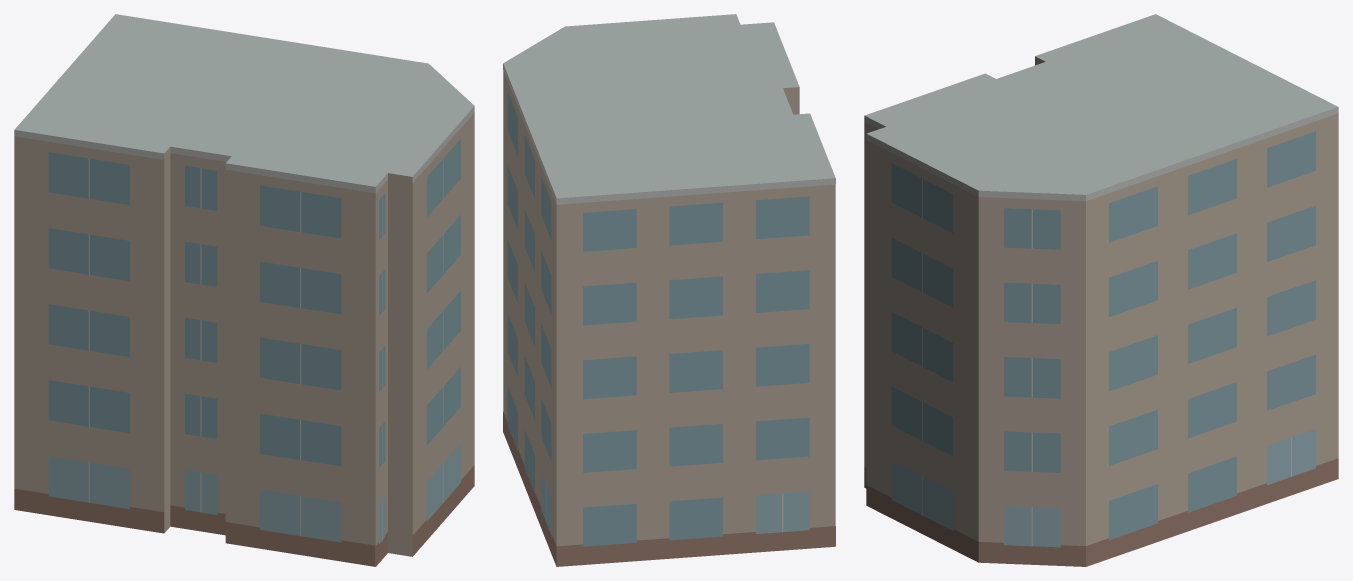
Rendered from survey-upis-32745446.glb.
3 renders of one model, left to right at view 1: azimuth 30°, elevation 25°; view 2: azimuth 150°, elevation 25°; view 3: azimuth 270°, elevation 25°, orthographic. The views are drawn at different scales.
Visible parts, largest first — view 1: survey-upis-32745446.tmp; view 2: survey-upis-32745446.tmp; view 3: survey-upis-32745446.tmp.
Part boxes in pixels (x1,y1,x2,y2): survey-upis-32745446.tmp: (14, 14, 474, 566); survey-upis-32745446.tmp: (503, 14, 835, 566); survey-upis-32745446.tmp: (864, 14, 1338, 566).
Size of the model in its own units: 14.87 by 14.25 by 16.47.
